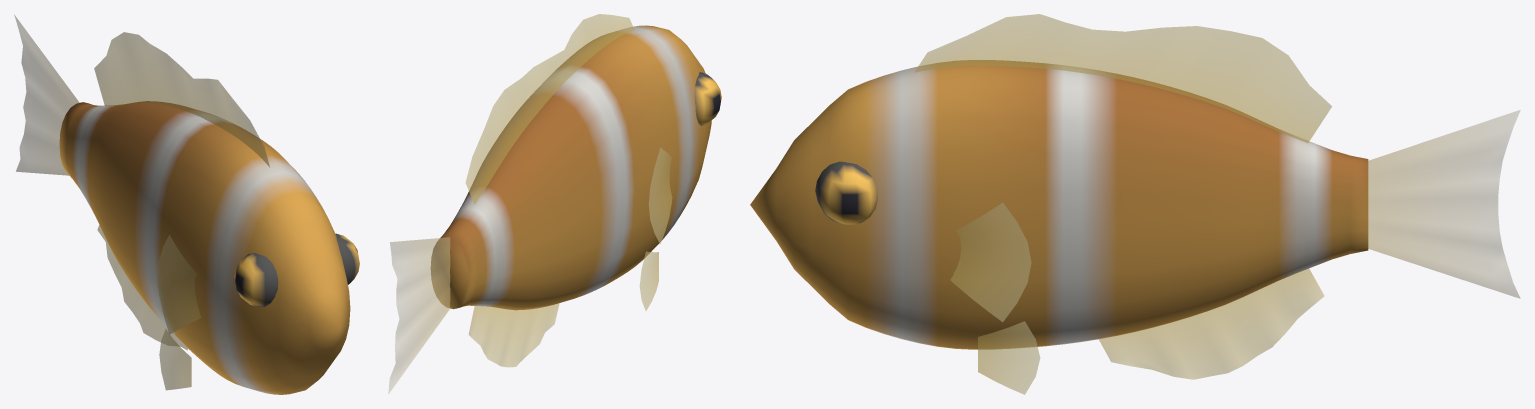
Rendered from fish_clark_clown.glb.
3 renders of one model, left to right at view 1: azimuth 30°, elevation 25°; view 2: azimuth 150°, elevation 25°; view 3: azimuth 270°, elevation 25°, orthographic. The views are drawn at different scales.
Parts seen in each view (by area): view 1: FishClarkClown; view 2: FishClarkClown; view 3: FishClarkClown.
Part boxes in pixels (bbox=[...]): FishClarkClown: bbox=[14, 15, 359, 394]; FishClarkClown: bbox=[388, 14, 721, 393]; FishClarkClown: bbox=[750, 14, 1520, 394].
Size of the model in its own units: 0.0303 by 0.0698 by 0.1334.
